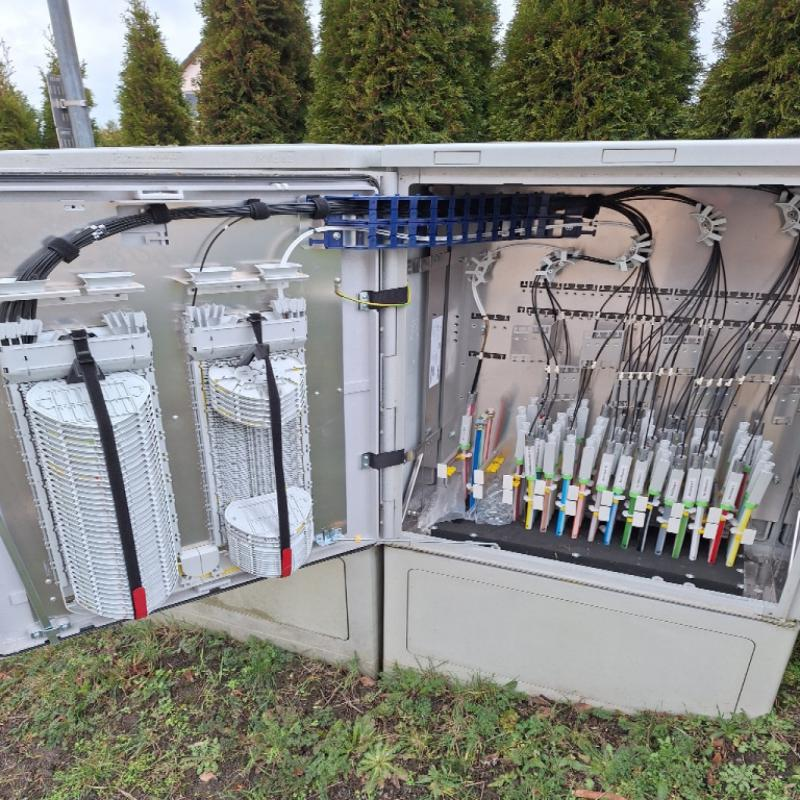NT-Gehause: (0, 142, 800, 721)
Spleiskassetten: (0, 262, 202, 620), (176, 258, 324, 586)
